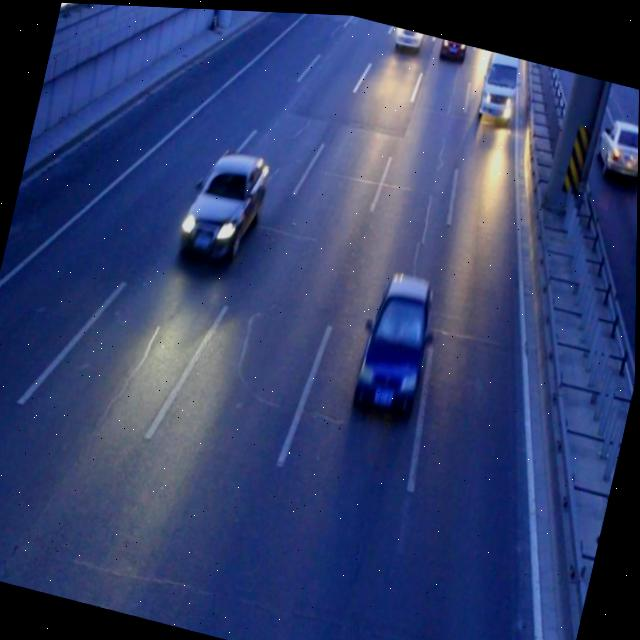car: (347, 263, 444, 421), (172, 137, 272, 270), (437, 34, 466, 56)
truck: (475, 46, 521, 117), (392, 23, 423, 45)
